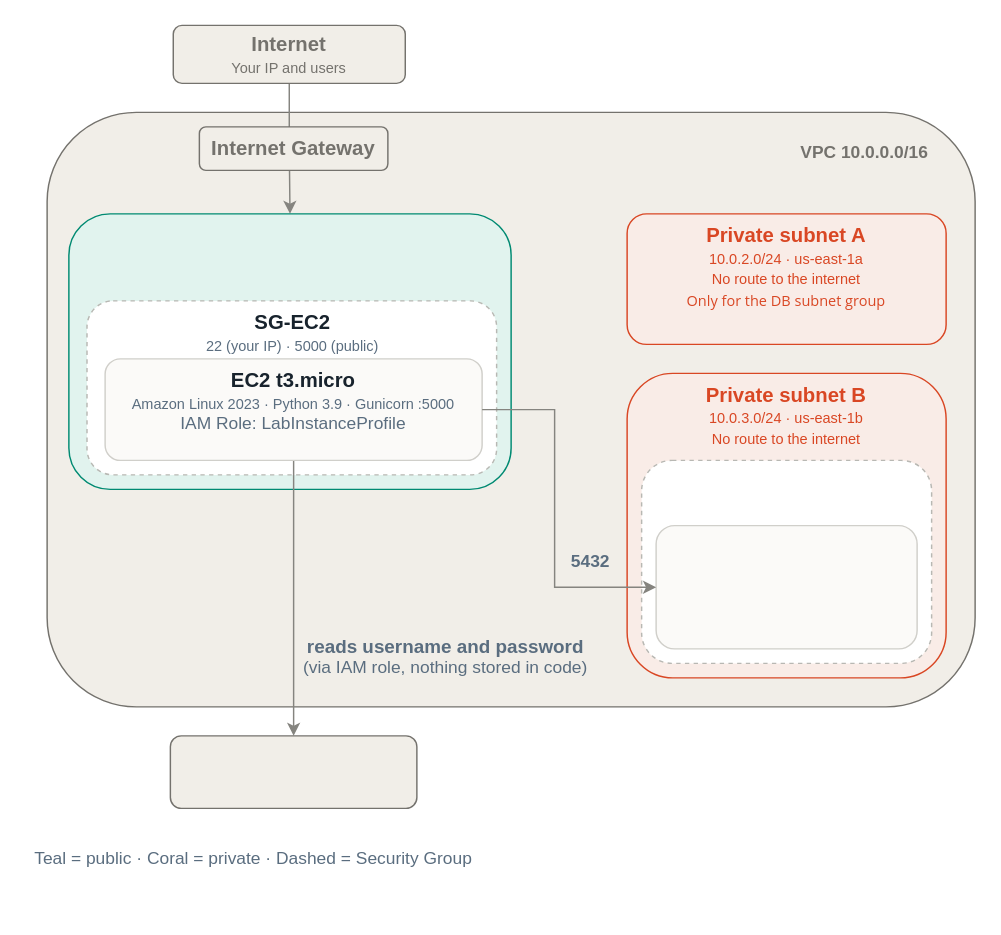
The diagram is 1001 pixels wide and 935 high, and some of its shapes have lost their labels. The box of each missing label's shape, as (x1, y1, x2, y2) in pixels:
AWS Secrets Manager Secret created by RDS: (169, 734, 417, 808)
Public subnet 10.0.1.0/24 · us-east-1a Route 0.0.0.0/0 → IGW: (67, 212, 511, 489)
RDS PostgreSQL 16 db.t3.micro · single-AZ Publicly accessible: No: (655, 524, 917, 649)
SG-RDS 5432 from SG-EC2 only: (640, 459, 932, 663)
